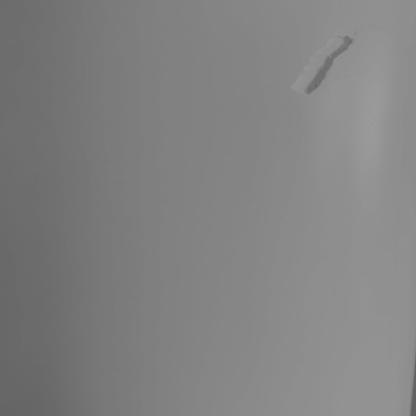sunshang: (289, 34, 354, 100)
